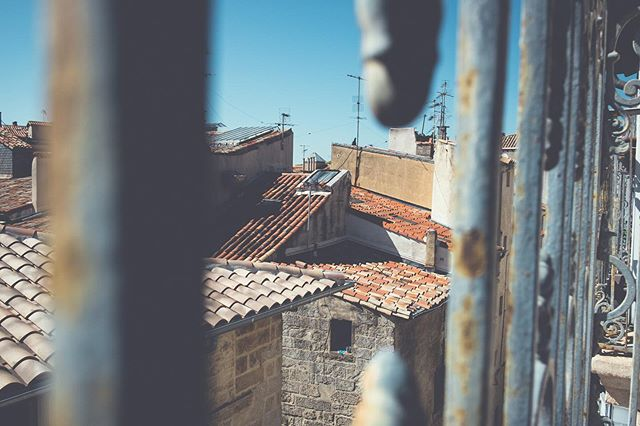building: (252, 163, 447, 410), (328, 129, 455, 262), (209, 124, 322, 239)
sky: (1, 1, 492, 126)
